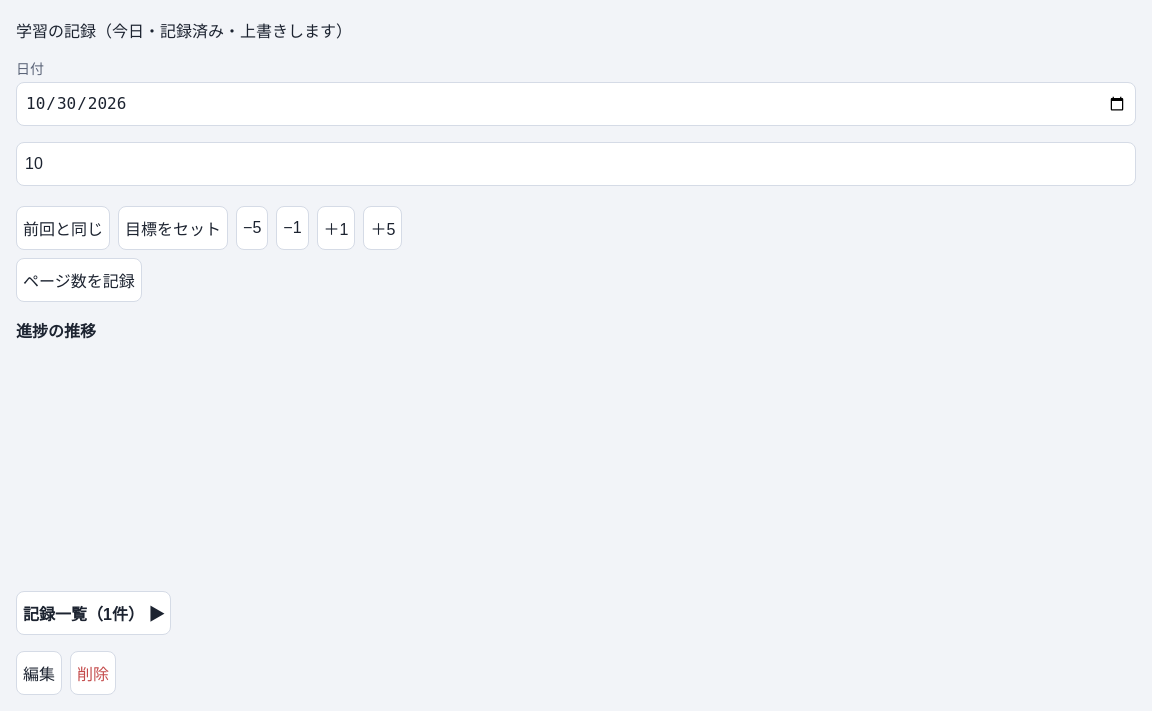
Test: BookDetailScreen › deletes a record after confirmation
(page scrolled)
Click the button with test id "record-list-toggle": (94, 613) [16,591,171,635]
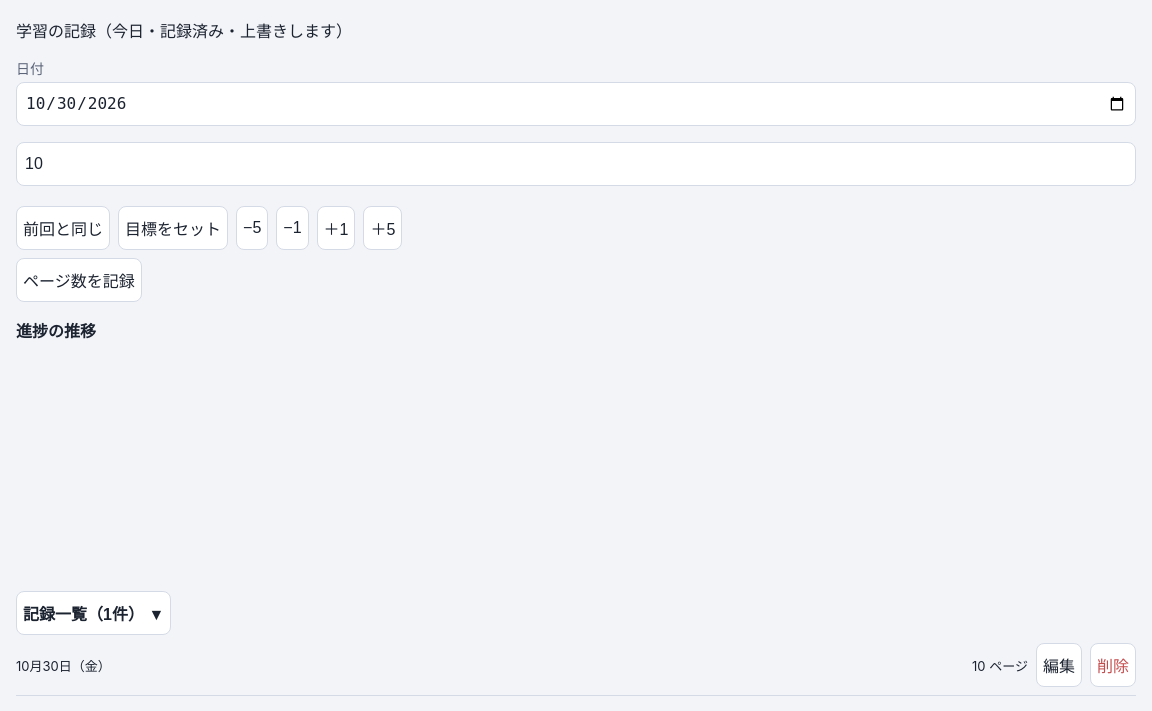
Click the button with test id "record-delete-r1": (1113, 665) [1090,643,1136,687]
(page scrolled)
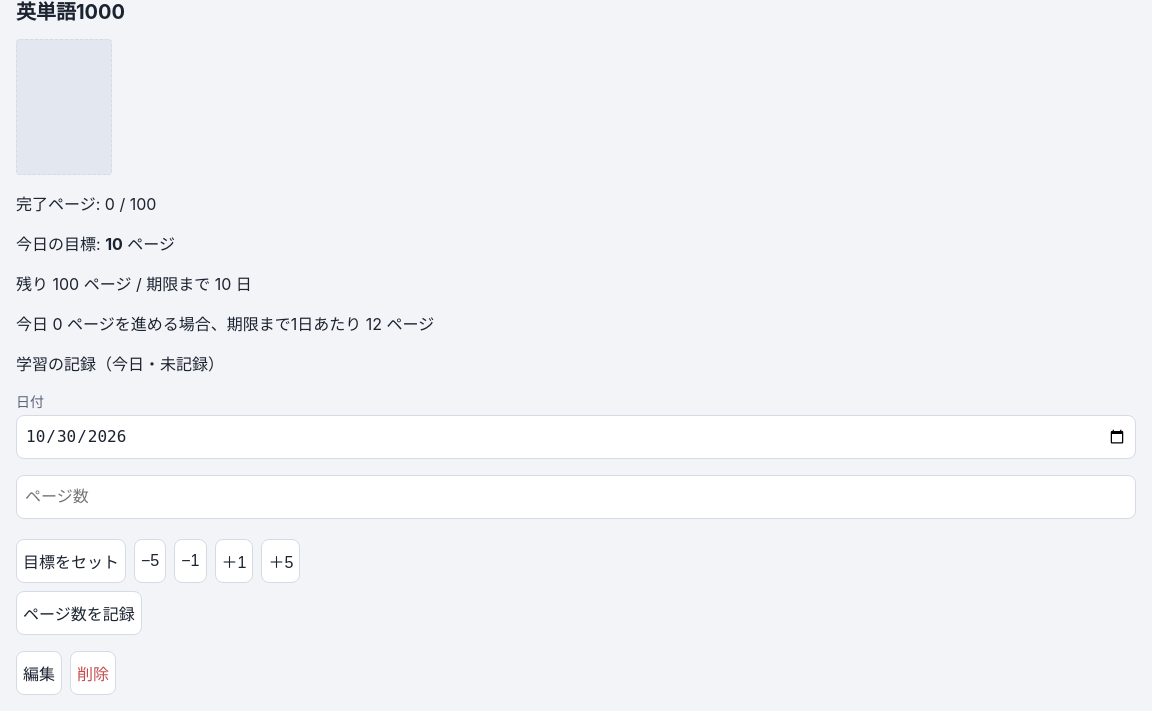
Now the element with test id "record-row-r1" is gone
